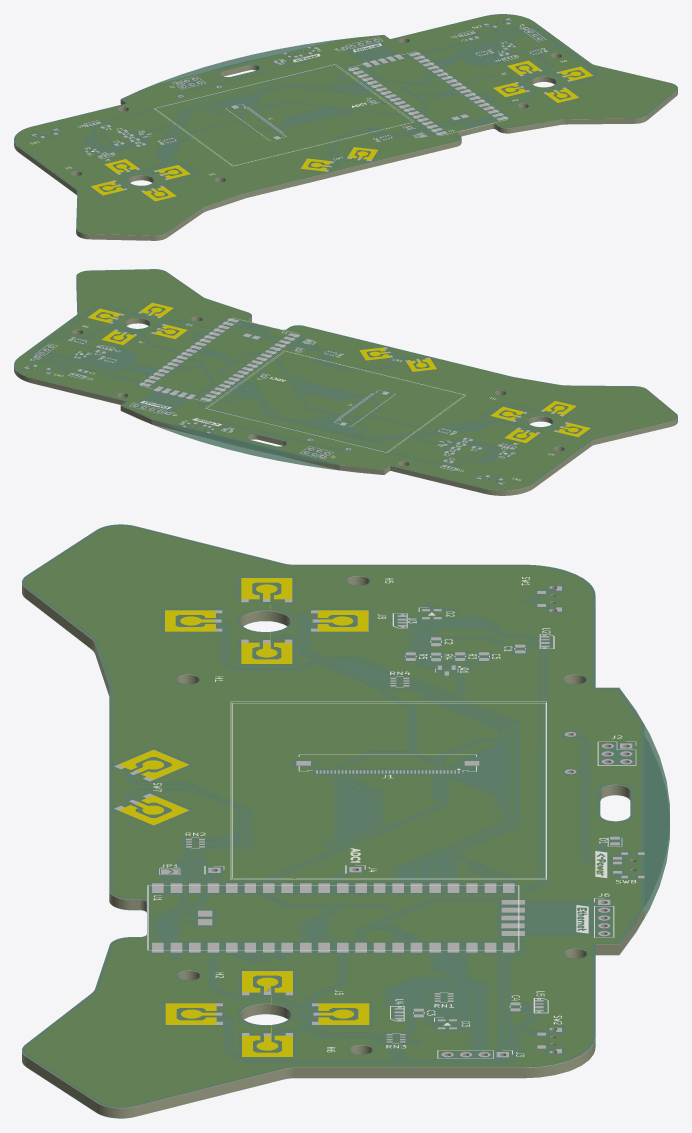
File: untitled-electronics-def-con-32-badge.glb
3 renders of one model, top to bottom at view 1: azimuth 30°, elevation 25°; view 2: azimuth 150°, elevation 25°; view 3: azimuth 270°, elevation 25°, orthographic. The views are drawn at different scales.
Parts seen in each view (by area): view 1: =>[0:1:1:7], =>[0:1:1:2], =>[0:1:1:9], =>[0:1:1:5]; view 2: =>[0:1:1:7], =>[0:1:1:2], =>[0:1:1:9], =>[0:1:1:5]; view 3: =>[0:1:1:7], =>[0:1:1:2], =>[0:1:1:9], =>[0:1:1:5].
Boxes of the visible parts, x1,y1,x2,y2 form: =>[0:1:1:7]: (14,14,677,240); =>[0:1:1:2]: (16,15,675,234); =>[0:1:1:9]: (14,16,677,240); =>[0:1:1:5]: (30,24,566,175); =>[0:1:1:7]: (14,269,677,495); =>[0:1:1:2]: (16,270,675,489); =>[0:1:1:9]: (14,271,677,495); =>[0:1:1:5]: (30,318,554,480); =>[0:1:1:7]: (22,524,669,1118); =>[0:1:1:2]: (26,526,644,1105); =>[0:1:1:9]: (22,525,644,1118); =>[0:1:1:5]: (147,577,636,1058).
Size of the model in its own units: 0.1899 by 0.00166 by 0.0891.
4 materials, 4 textured.
